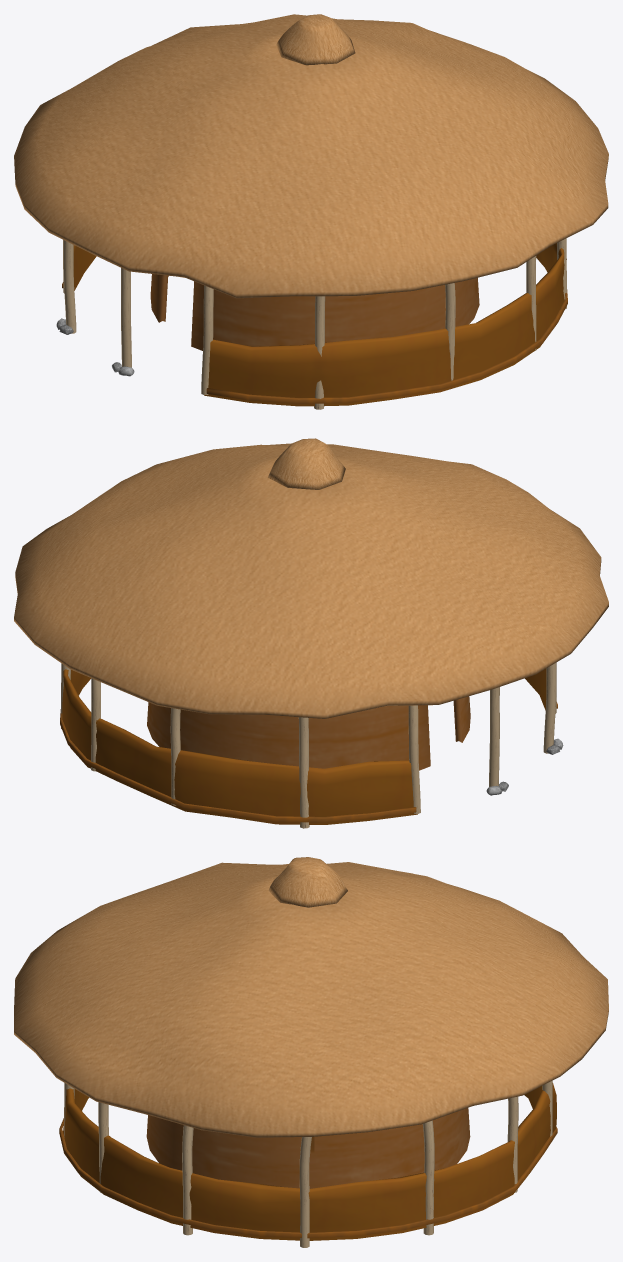
File: african house.fbx
3 views of the same model, one above another, from view 1: azimuth 30°, elevation 25°; view 2: azimuth 150°, elevation 25°; view 3: azimuth 270°, elevation 25° (orthographic).
Parts seen in each view (by area): view 1: House; view 2: House; view 3: House.
Boxes of the visible parts, box(x1,y1,x2,y2) form: House: box(14, 14, 608, 409); House: box(14, 438, 608, 828); House: box(14, 857, 608, 1247).
Bounding box in the file's own units: 5.67 × 2.95 × 5.62.
